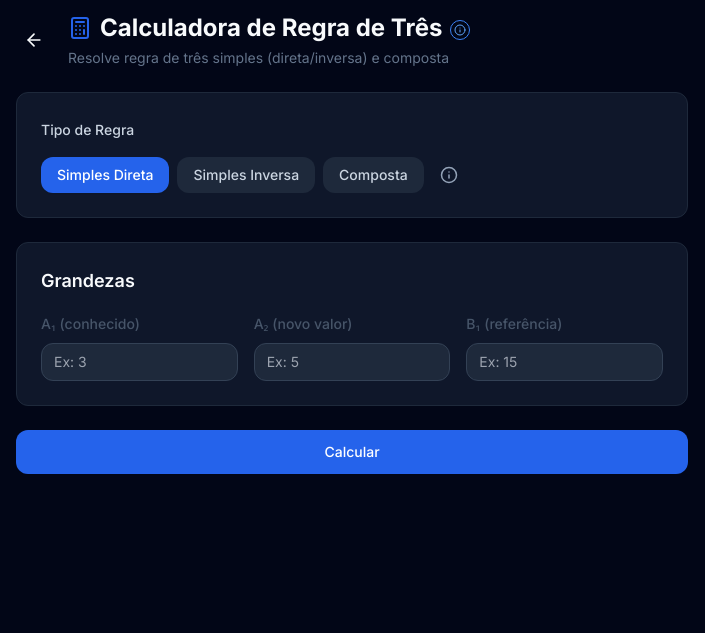
Test: RegraDeTresPage › calcula regra de três simples inversa
Click the button "Simples Inversa".
click(246, 175)  # box [178,157,315,193]
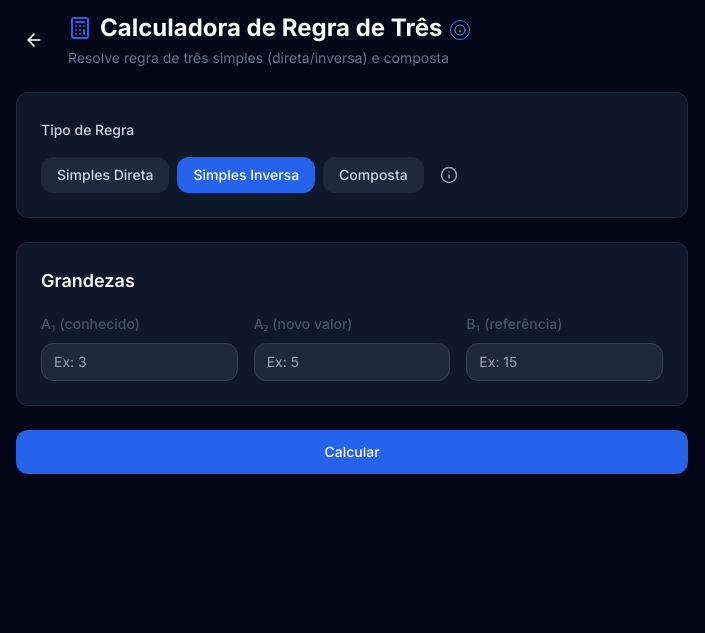
Type "4" into the number field with placeholder "Ex: 3".
click(139, 362); type("4")  # box [41,343,238,381]
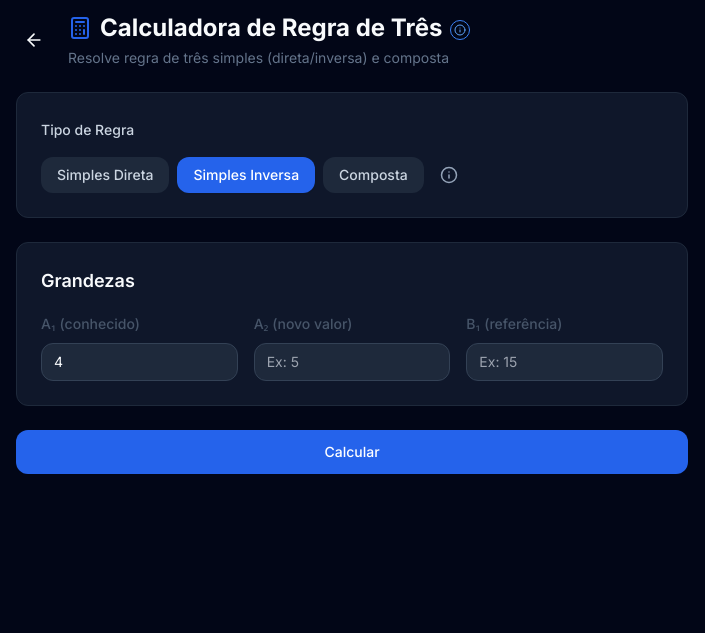
Type "8" into the number field with placeholder "Ex: 5".
click(352, 362); type("8")  # box [254,343,450,381]
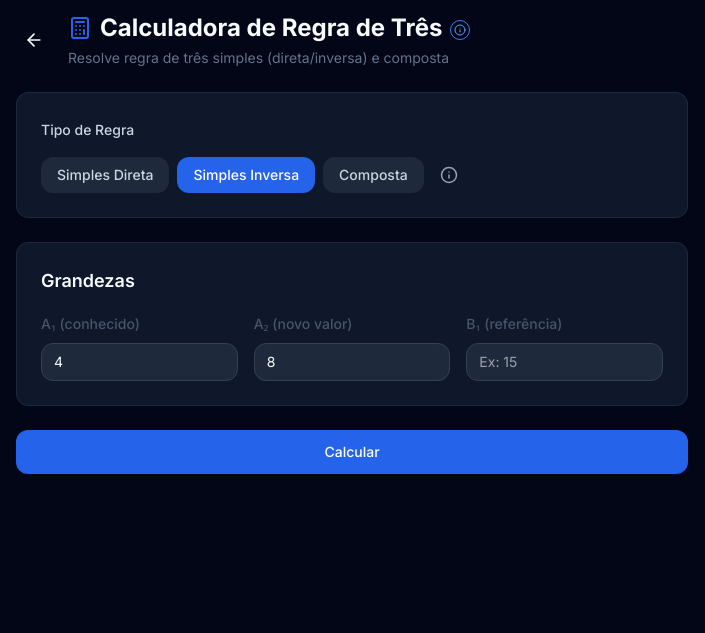
Type "6" into the number field with placeholder "Ex: 15".
click(565, 362); type("6")  # box [466,343,663,381]
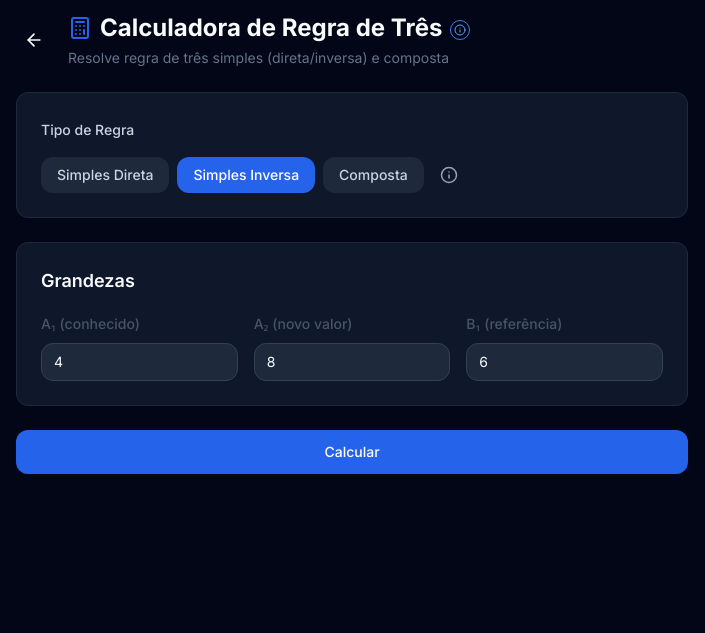
Click the button "Calcular".
click(352, 452)  # box [16,430,688,474]
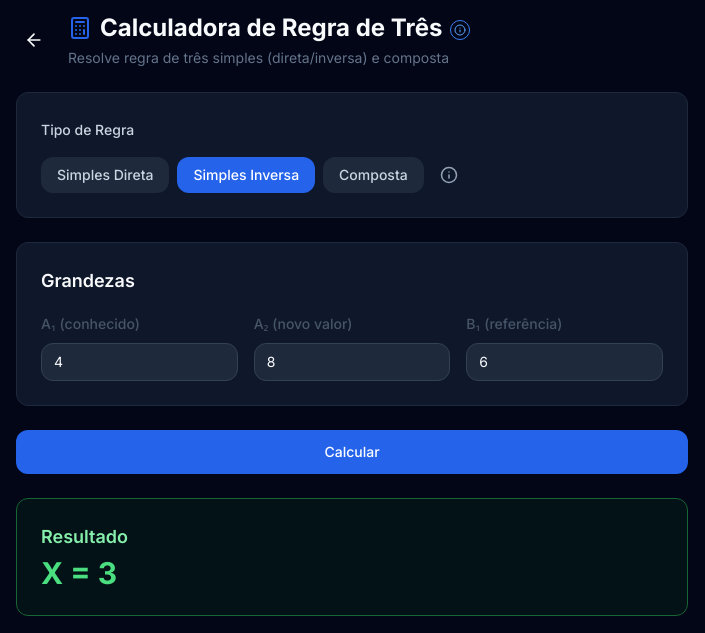
Check: the text "X = 3" is shown, box [41,555,117,591]
